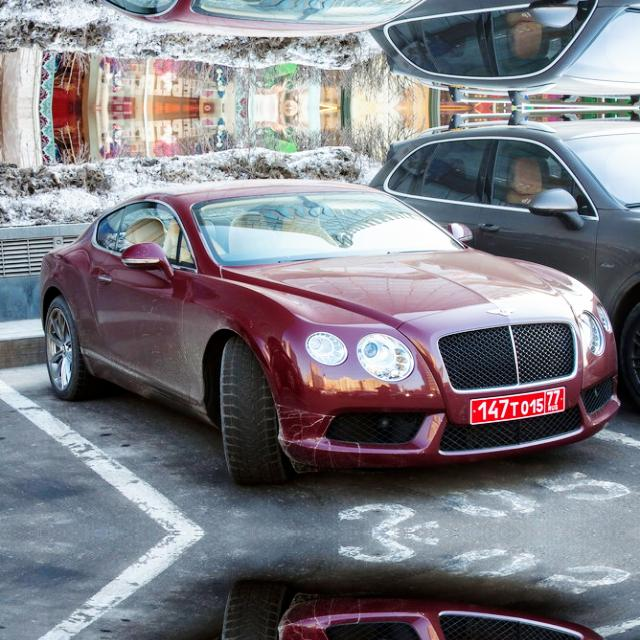diplomatic: (467, 381, 568, 432)
